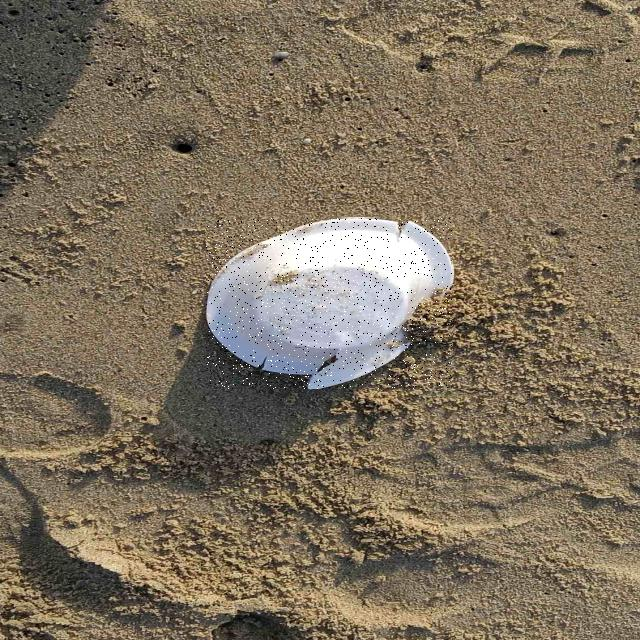styrofoam: (206, 218, 452, 388)
